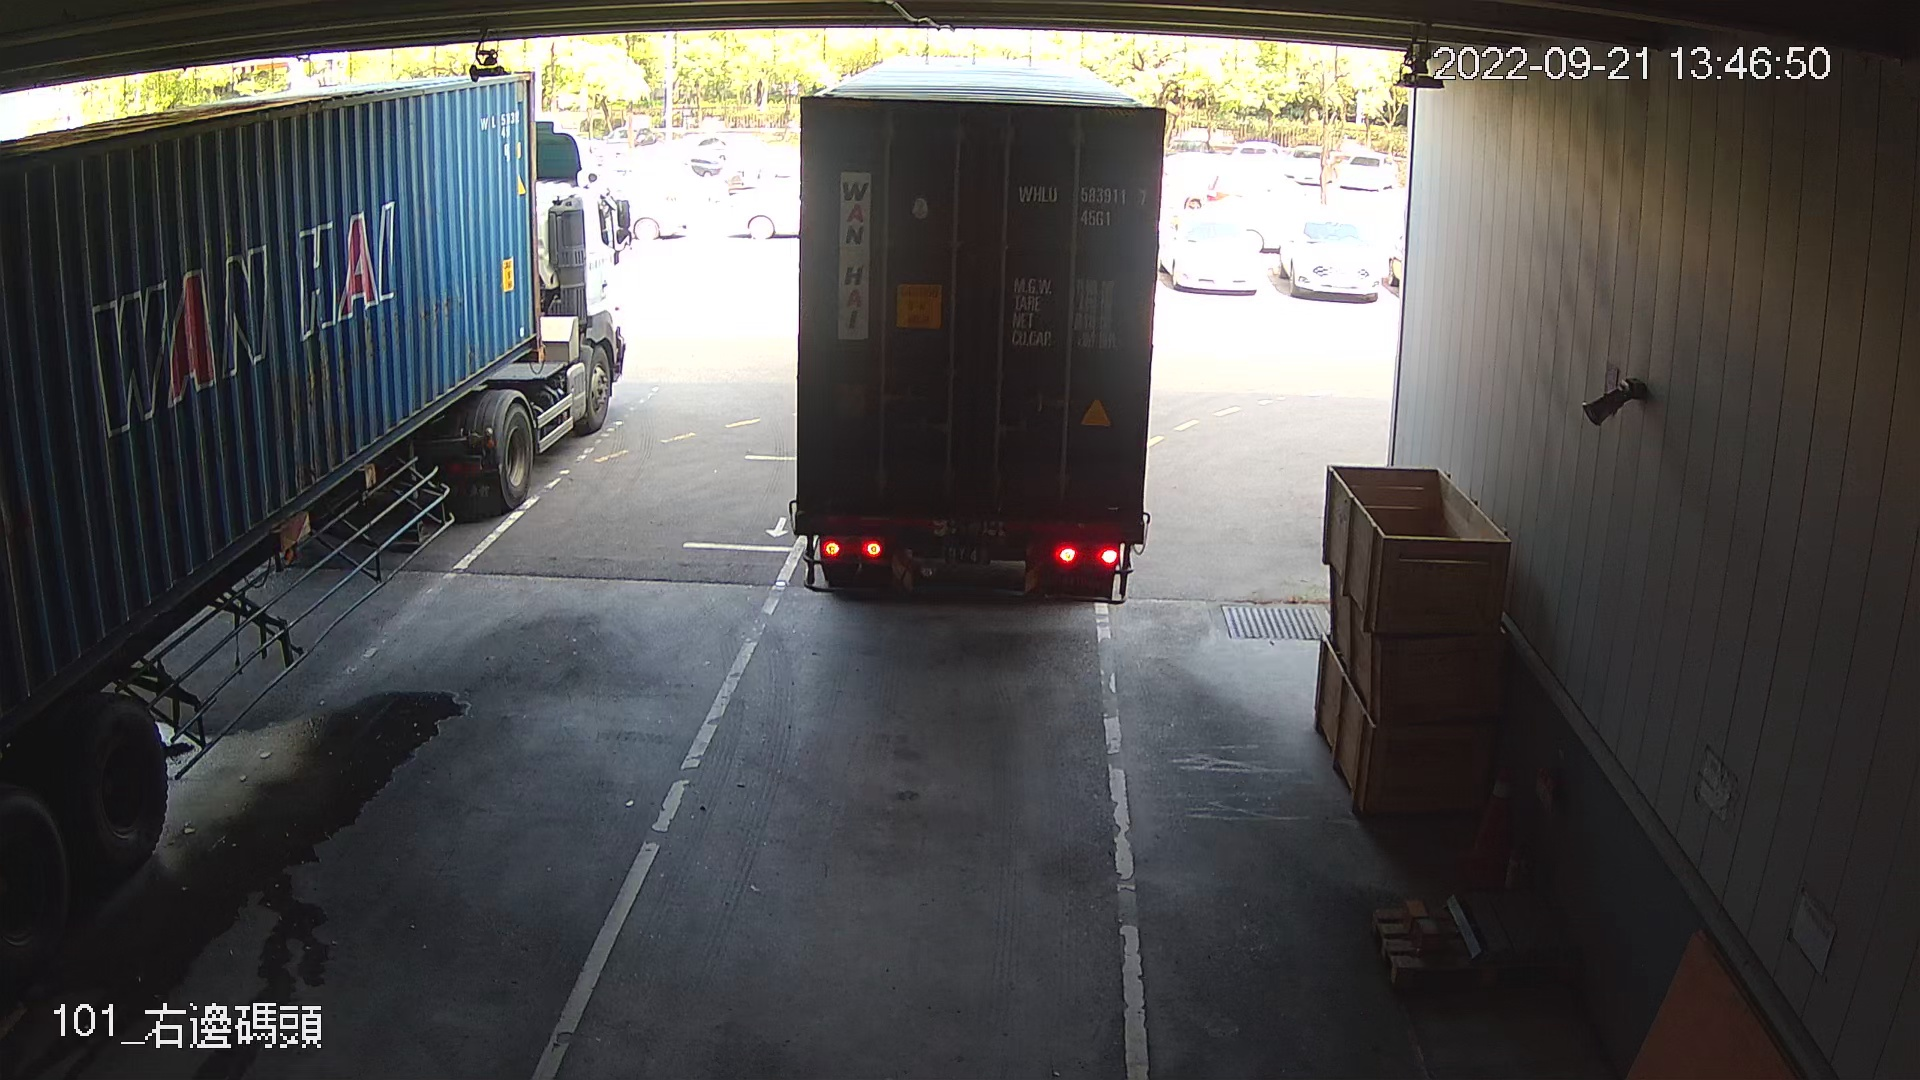container: (1010, 179, 1153, 236)
